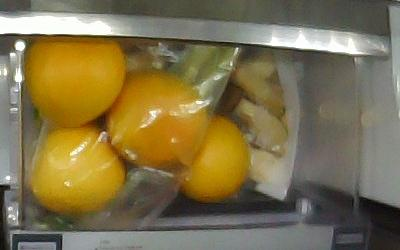grapefruit: (27, 42, 126, 125), (170, 111, 250, 202)
grapefruit_vinyl: (107, 69, 206, 167), (30, 126, 126, 214)
